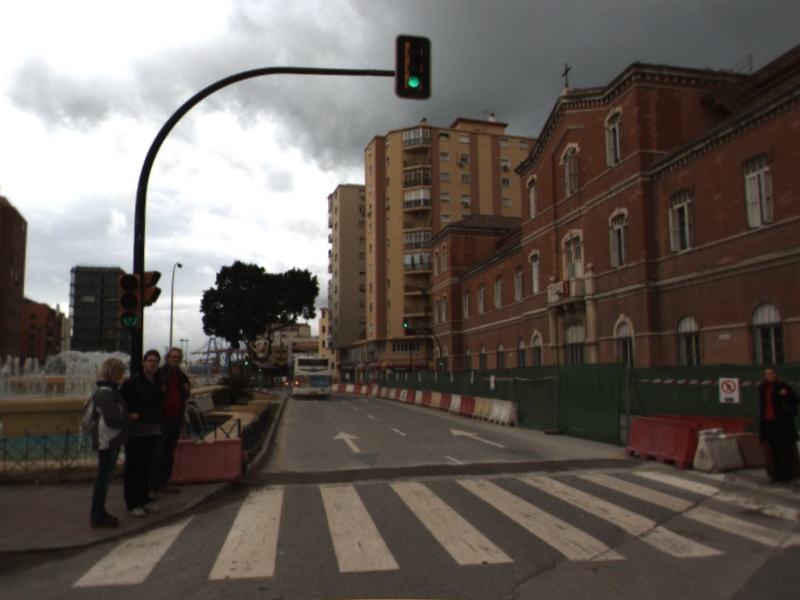STRAIGHT: (448, 427, 509, 450), (331, 429, 365, 455)
